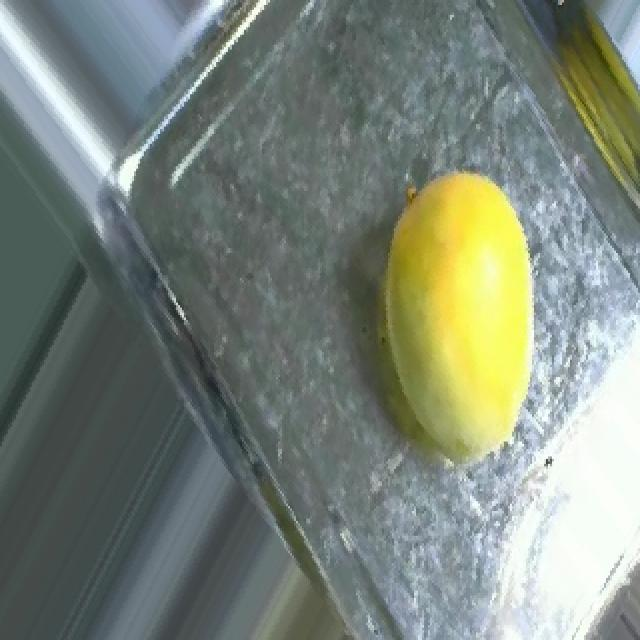fruit: (304, 137, 618, 501)
